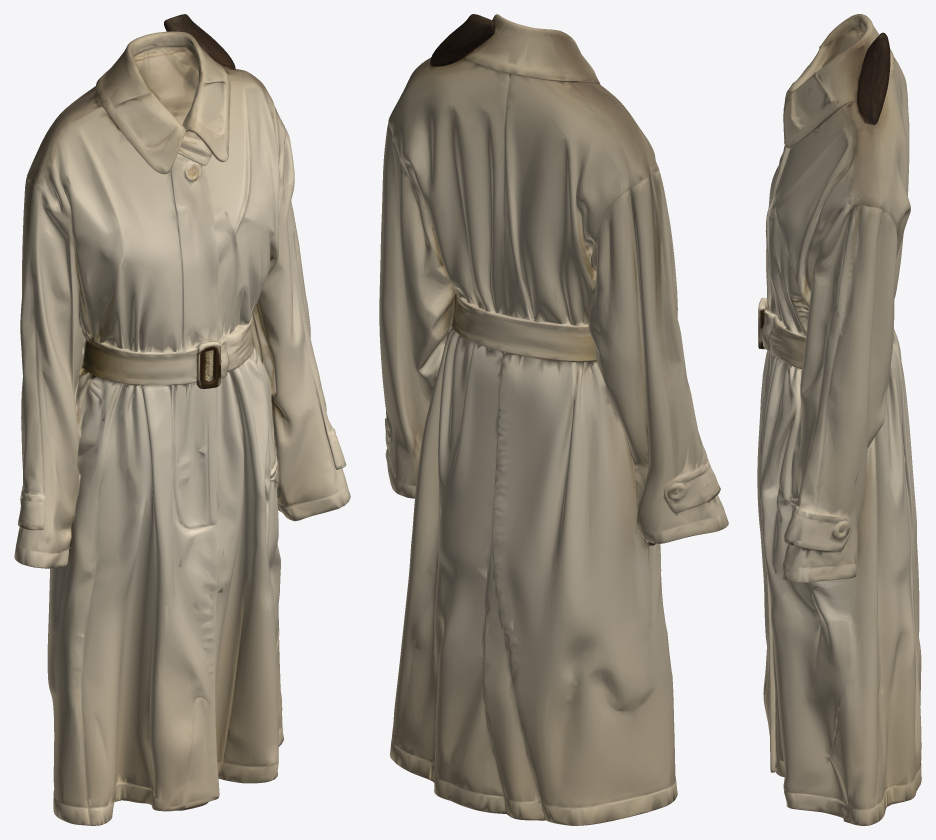
The model's file is trench-coat-beige.glb.
The picture shows the model from 3 angles, left to right: view 1: azimuth 30°, elevation 25°; view 2: azimuth 150°, elevation 25°; view 3: azimuth 270°, elevation 25°; orthographic projection. The views are drawn at different scales.
Visible parts, largest first — view 1: node_0; view 2: node_0; view 3: node_0.
Boxes of the visible parts, bbox=[...] form: node_0: bbox=[14, 14, 350, 825]; node_0: bbox=[379, 14, 728, 825]; node_0: bbox=[757, 14, 921, 825].
Bounding box in the file's own units: 0.5273 × 1.15 × 0.227.
1 material, 1 textured.
